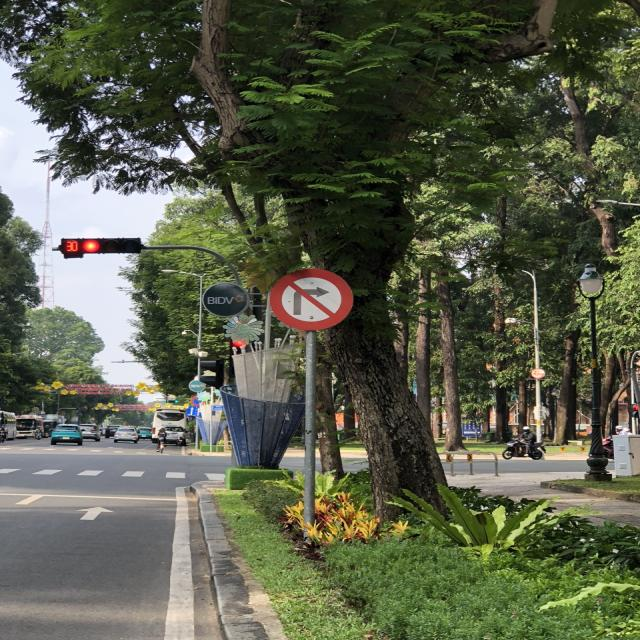Bien bao cam re phai: (265, 260, 360, 334)
